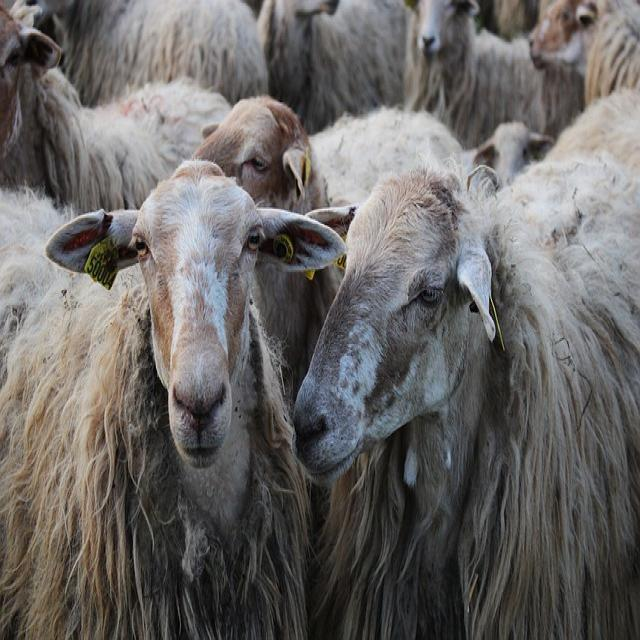sheep: (291, 154, 639, 638), (0, 157, 345, 638), (0, 0, 231, 213), (403, 0, 585, 149), (36, 0, 269, 110), (306, 104, 553, 207), (257, 0, 411, 135), (528, 0, 639, 107), (542, 86, 639, 177)
